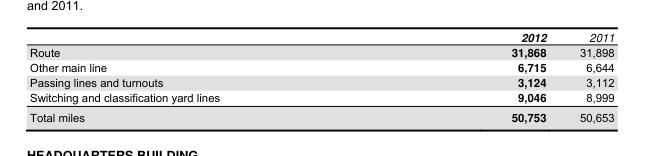table: (29, 28, 613, 124)
table column: (29, 28, 364, 124), (364, 28, 562, 124), (562, 28, 613, 124)
table column header: (29, 28, 613, 44)
table row: (29, 89, 613, 107), (29, 107, 613, 124), (29, 28, 613, 44), (29, 44, 613, 59), (29, 59, 613, 74), (29, 74, 613, 89)
